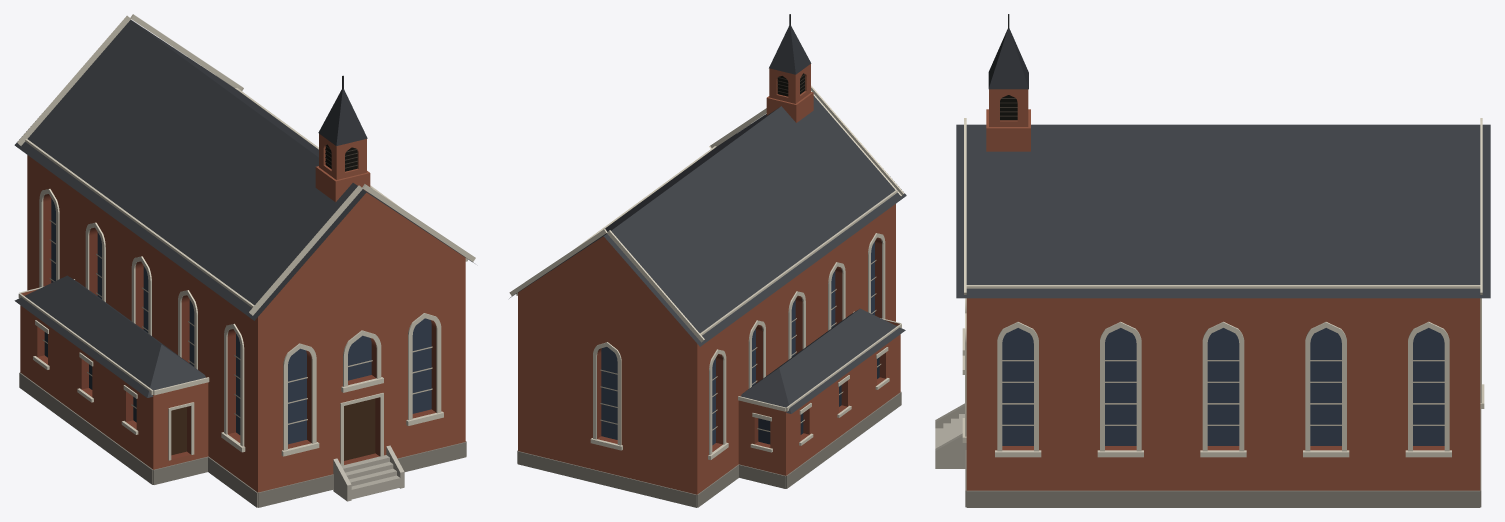
Rendered from ch-dye-memorial-1913.glb.
3 renders of one model, left to right at view 1: azimuth 30°, elevation 25°; view 2: azimuth 150°, elevation 25°; view 3: azimuth 270°, elevation 25°, orthographic. The views are drawn at different scales.
Parts seen in each view (by area): view 1: ch_brick, ch_roof, ch_trim, ch_brick2, ch_base, ch_stain, ch_conc, ch_door, ch_roof2; view 2: ch_brick, ch_roof, ch_trim, ch_base, ch_brick2, ch_stain, ch_roof2, ch_glass; view 3: ch_roof, ch_brick, ch_stain, ch_trim, ch_base, ch_conc, ch_roof2, ch_trc, ch_brick2.
Boxes of the visible parts, box(x1,y1,x2,y2) form: ch_brick: box(20, 134, 465, 492); ch_roof: box(14, 20, 474, 397); ch_trim: box(17, 14, 475, 466); ch_brick2: box(37, 194, 436, 464); ch_base: box(19, 372, 466, 507); ch_stain: box(51, 198, 431, 444); ch_conc: box(333, 445, 404, 501); ch_door: box(171, 398, 375, 460); ch_roof2: box(318, 89, 367, 145); ch_brick: box(518, 64, 900, 494); ch_roof: box(509, 96, 906, 413); ch_trim: box(509, 85, 904, 459); ch_base: box(517, 392, 901, 507); ch_brick2: box(597, 237, 885, 451); ch_stain: box(601, 241, 874, 445); ch_roof2: box(769, 25, 811, 74); ch_glass: box(758, 357, 879, 444); ch_roof: box(956, 124, 1490, 298); ch_brick: box(966, 89, 1480, 490); ch_stain: box(1002, 328, 1444, 445); ch_trim: box(962, 118, 1484, 457); ch_base: box(965, 409, 1481, 507); ch_conc: box(935, 403, 966, 468); ch_roof2: box(988, 28, 1028, 89); ch_trc: box(1002, 360, 1444, 425); ch_brick2: box(1002, 446, 1444, 450).
Size of the model in its own units: 13.64 by 18.49 by 21.2.
